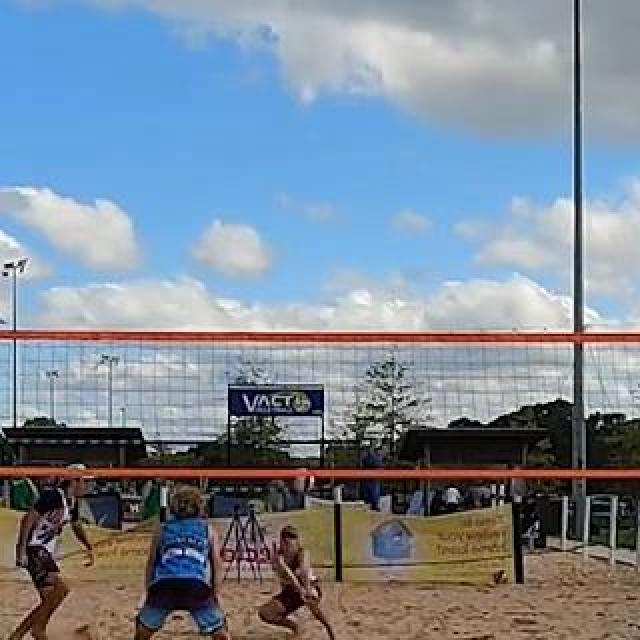volleyball: (292, 468, 314, 494), (492, 567, 508, 585)
